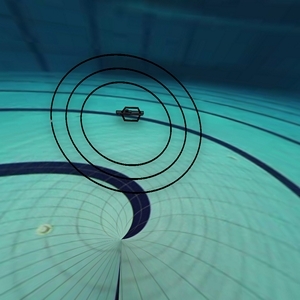circle: (39, 37, 219, 209)
submarine: (114, 102, 151, 135)
